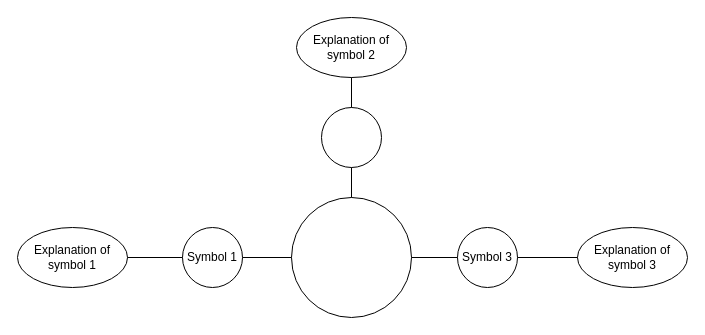
This 705x335 diagram has some shape labels left out. The centre of each missing label's shape, as x and y in pixels:
Formular1: (351,257)
Symbol 2: (351,137)
